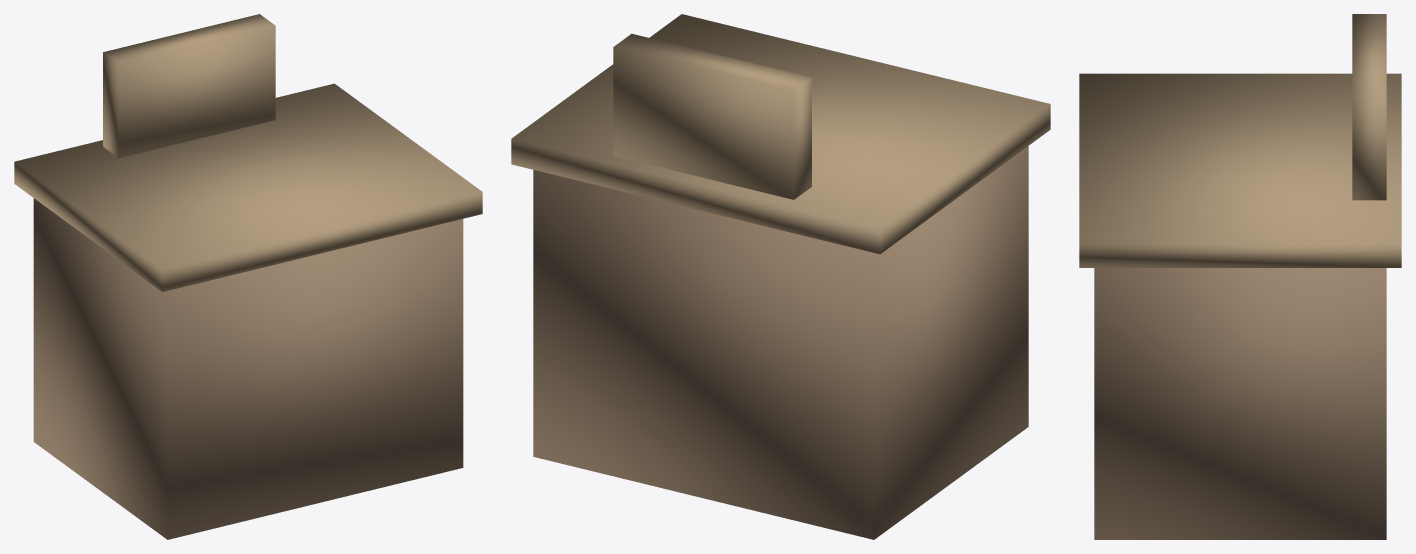
The model's file is witness_stand__squat.glb.
3 views of the same model, side by side, from view 1: azimuth 30°, elevation 25°; view 2: azimuth 150°, elevation 25°; view 3: azimuth 270°, elevation 25° (orthographic). The views are drawn at different scales.
Visible parts, largest first — view 1: world; view 2: world; view 3: world.
Part boxes in pixels (box(x1,y1,x2,y2)): world: box(14, 14, 482, 539); world: box(511, 14, 1050, 539); world: box(1079, 14, 1401, 539).
Bounding box in the file's own units: 1.01 × 1.13 × 0.81.
